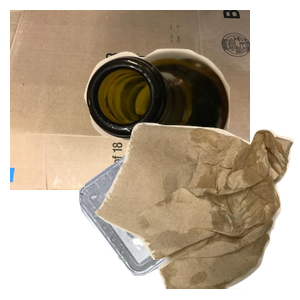cardboard: (10, 10, 250, 190)
glass: (82, 46, 300, 199)
plastic: (77, 133, 289, 300)
trash: (92, 120, 300, 300)
